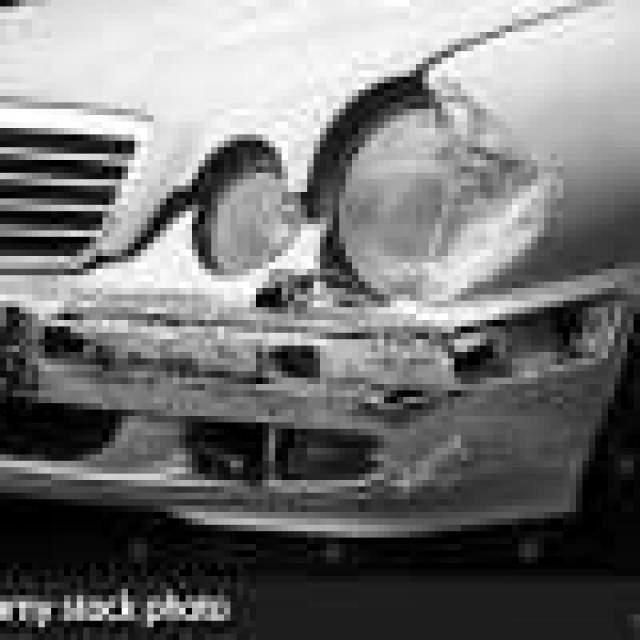Headlight-damage: (90, 122, 551, 314)
front-bumper-dent: (7, 295, 608, 506)
